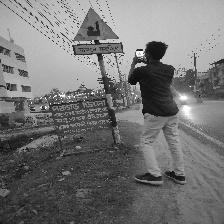Mosque in front: (72, 7, 122, 56)
